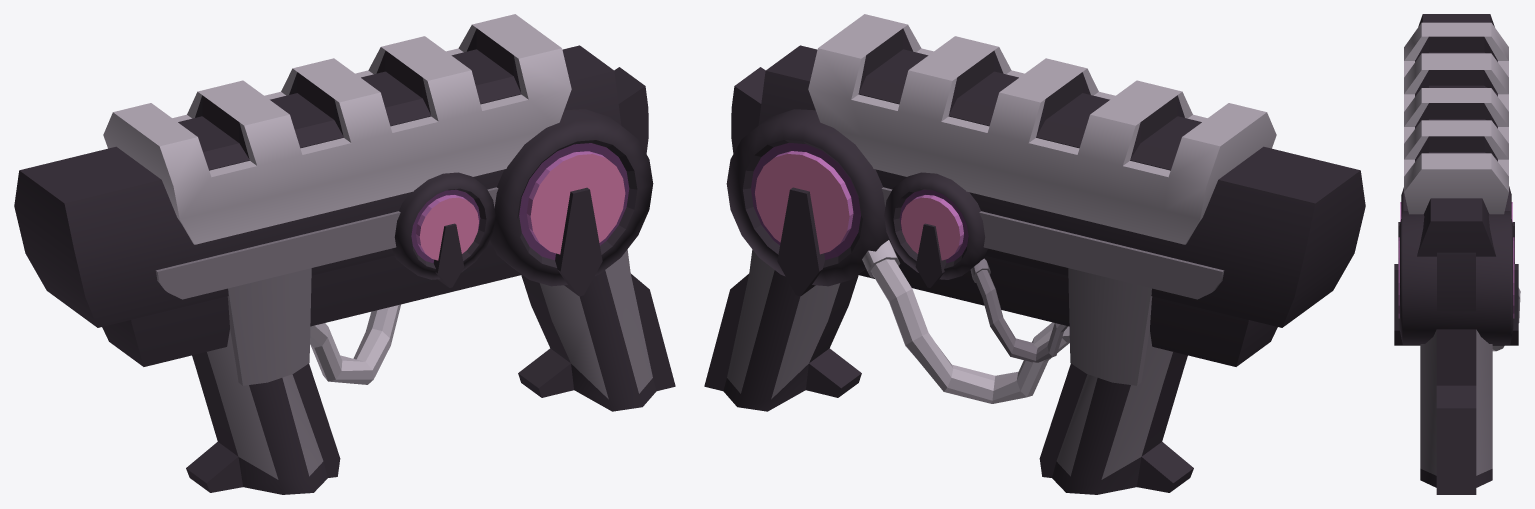
File: Gun3.fbx
The picture shows the model from 3 angles, left to right: view 1: azimuth 30°, elevation 25°; view 2: azimuth 150°, elevation 25°; view 3: azimuth 270°, elevation 25°; orthographic projection. The views are drawn at different scales.
Visible parts, largest first — view 1: pasted__pCube1 (×5), pasted__pasted__pCube1 (×2), pCylinder1, pCube1, pasted__pCylinder1, pCube3, pCube2, pasted__pCube2; view 2: pasted__pCube1 (×5), pasted__pasted__pCube1 (×2), pCylinder1, pCube1, pCube3, pasted__pCylinder1, pCube2, pasted__pCube3, pasted__pCube2; view 3: pasted__pCube1 (×3), pCylinder1, pCube1, pCube2, pasted__pasted__pCube1, pasted__pCylinder1.
Boxes of the visible parts, box(x1,y1,x2,y2) form: pasted__pCube1 (×5): box(103, 14, 675, 411); pasted__pasted__pCube1 (×2): box(14, 146, 504, 494); pCylinder1: box(490, 109, 653, 286); pCube1: box(102, 45, 621, 366); pasted__pCylinder1: box(392, 172, 495, 279); pCube3: box(310, 304, 400, 384); pCube2: box(555, 187, 602, 296); pasted__pCube2: box(433, 223, 464, 287); pasted__pCube1 (×5): box(704, 14, 1276, 411); pasted__pasted__pCube1 (×2): box(875, 146, 1365, 494); pCylinder1: box(726, 109, 889, 286); pCube1: box(758, 45, 1277, 366); pCube3: box(862, 240, 1069, 403); pasted__pCylinder1: box(884, 172, 987, 279); pCube2: box(777, 187, 824, 296); pasted__pCube3: box(970, 258, 1067, 362); pasted__pCube2: box(915, 223, 946, 287); pasted__pCube1 (×3): box(1404, 22, 1508, 494); pCylinder1: box(1398, 211, 1514, 344); pCube1: box(1417, 198, 1495, 256); pCube2: box(1394, 264, 1518, 345); pasted__pasted__pCube1: box(1418, 14, 1494, 26); pasted__pCylinder1: box(1400, 186, 1512, 222).
Size of the model in its own units: 11.05 by 6.53 by 2.61.
